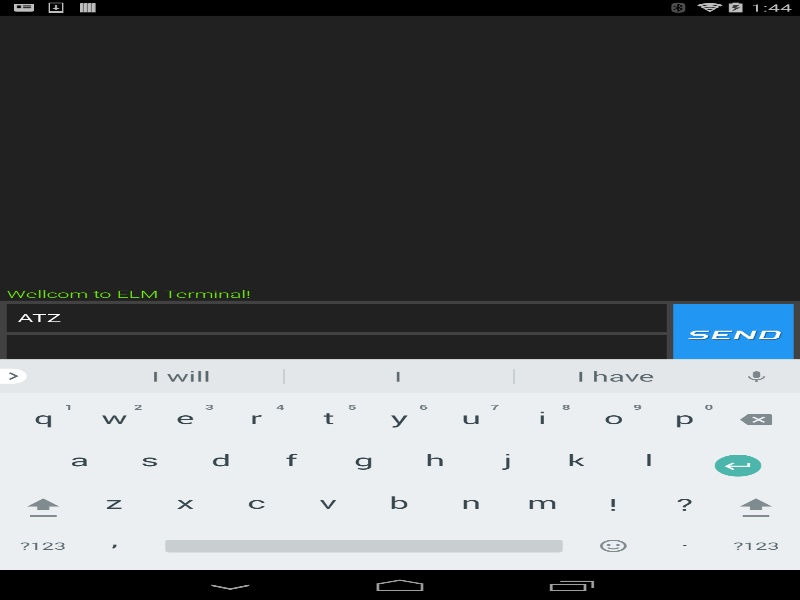Button: (673, 303, 794, 366)
Input: (6, 335, 666, 366)
